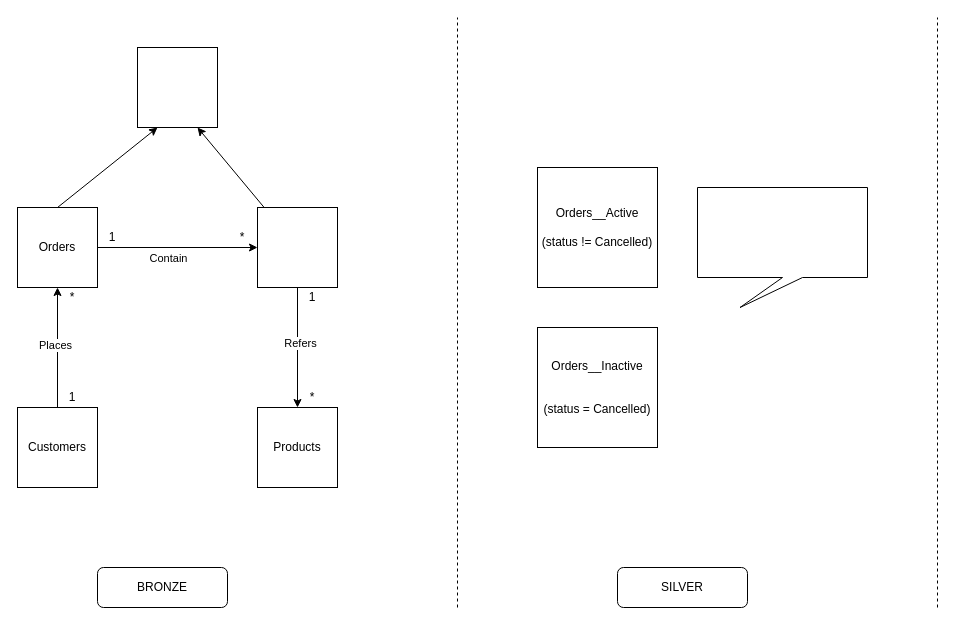
The diagram is 956 pixels wide and 626 high, and some of its shapes have lost their labels. Each missing label, with the centre of its shape:
"Order_Items" goes at (x=297, y=247).
"Partition By: - order_year - order_month - order_day" goes at (x=782, y=247).
"Status" goes at (x=177, y=87).
